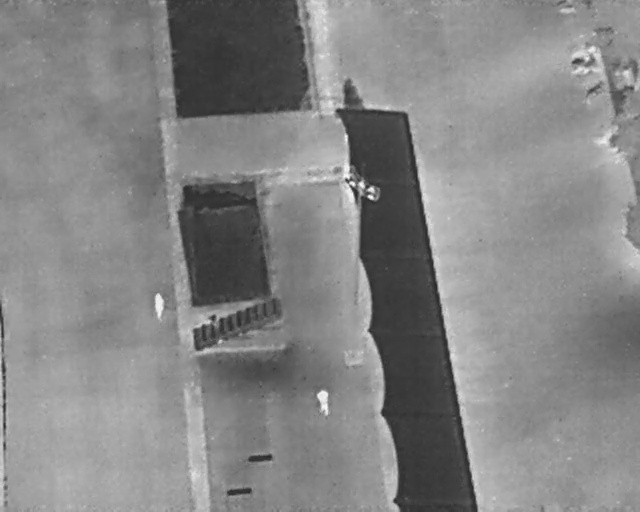Bicycle: (579, 77, 608, 104), (571, 52, 600, 73)
Person: (315, 388, 332, 417), (153, 289, 165, 322)
